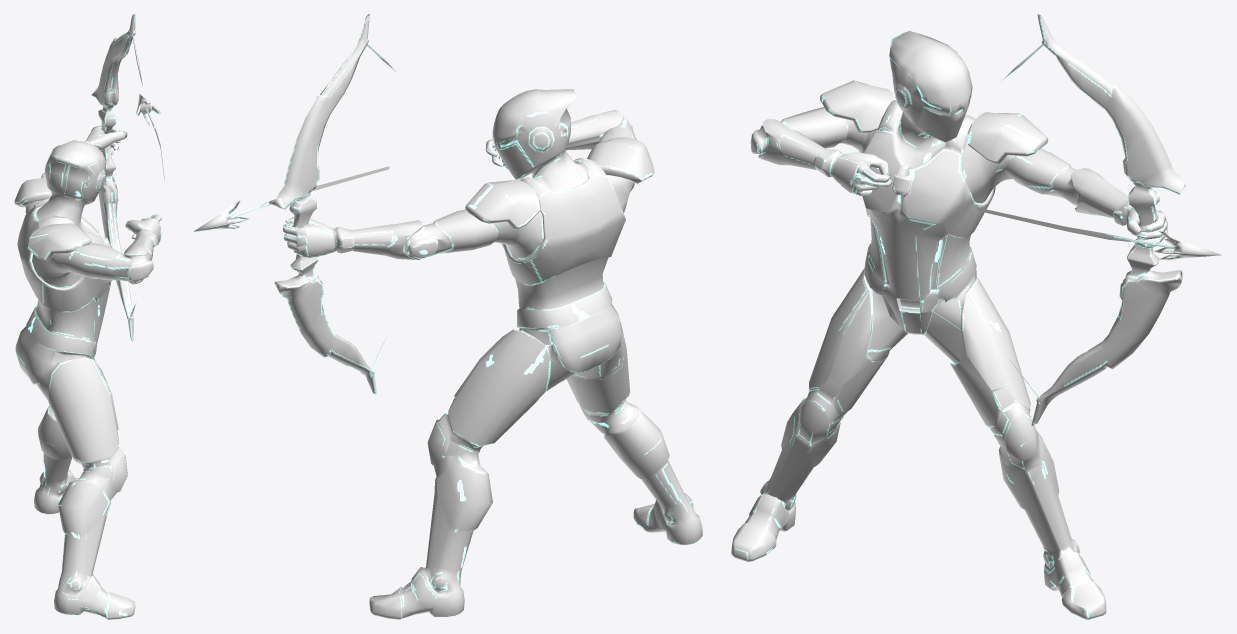
The model's file is archer_v3-src1.0.glb.
3 renders of one model, left to right at view 1: azimuth 30°, elevation 25°; view 2: azimuth 150°, elevation 25°; view 3: azimuth 270°, elevation 25°, orthographic. The views are drawn at different scales.
Parts seen in each view (by area): view 1: archer_v3; view 2: archer_v3; view 3: archer_v3.
Boxes of the visible parts, x1,y1,x2,y2 form: archer_v3: (14, 14, 164, 619); archer_v3: (194, 14, 702, 619); archer_v3: (731, 14, 1221, 619).
Size of the model in its own units: 1.44 by 2.6 by 1.87.
Materials: 1 (1 with a texture image).
